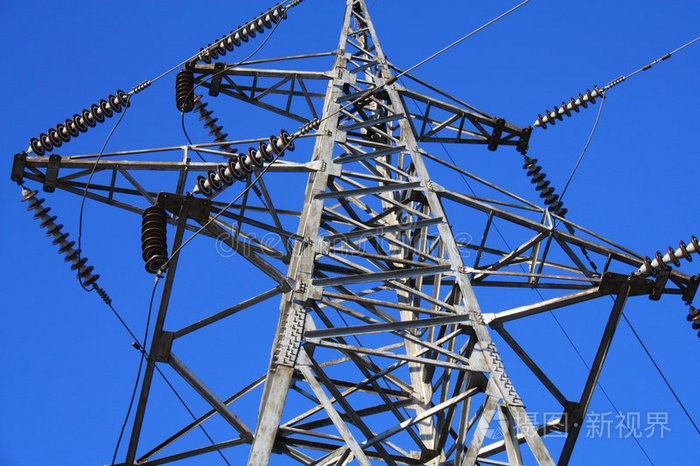insulator: (24, 189, 100, 288), (31, 88, 129, 158), (198, 127, 296, 193), (200, 4, 292, 68), (536, 86, 606, 131), (522, 157, 570, 219), (194, 96, 235, 154), (139, 206, 173, 272), (644, 236, 698, 275), (174, 71, 197, 114)
